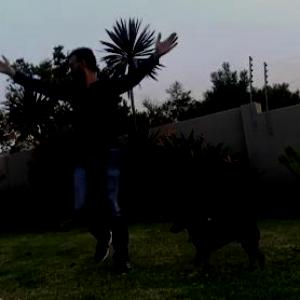takeoff: (1, 29, 182, 277)
